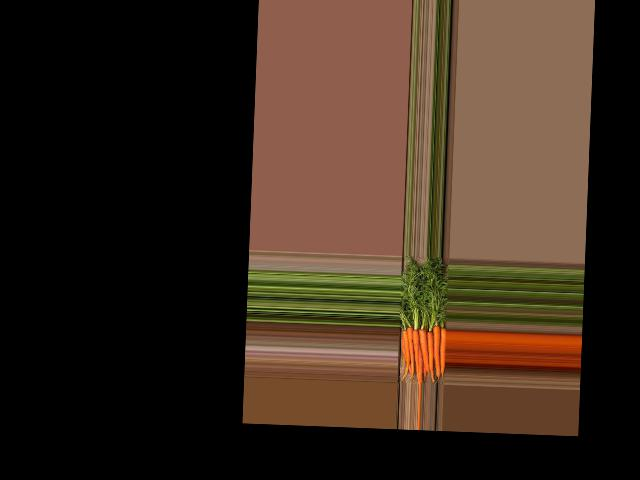carrot: (436, 325, 447, 377)
